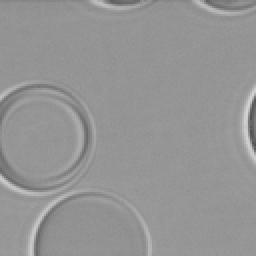picoshell: (0, 82, 94, 194), (26, 190, 150, 254), (192, 0, 254, 14), (248, 94, 254, 152), (104, 0, 140, 4)
